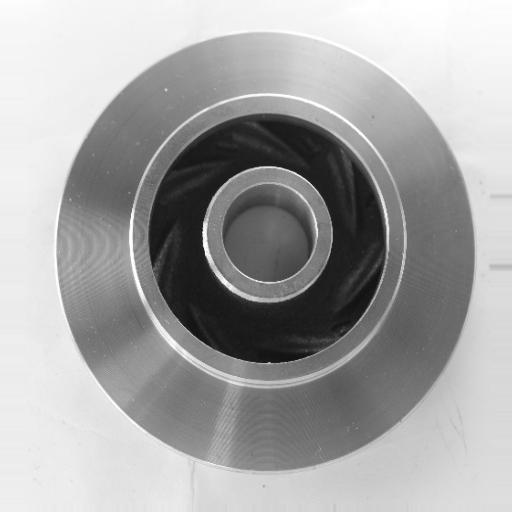polished_casting: (55, 29, 478, 471)
